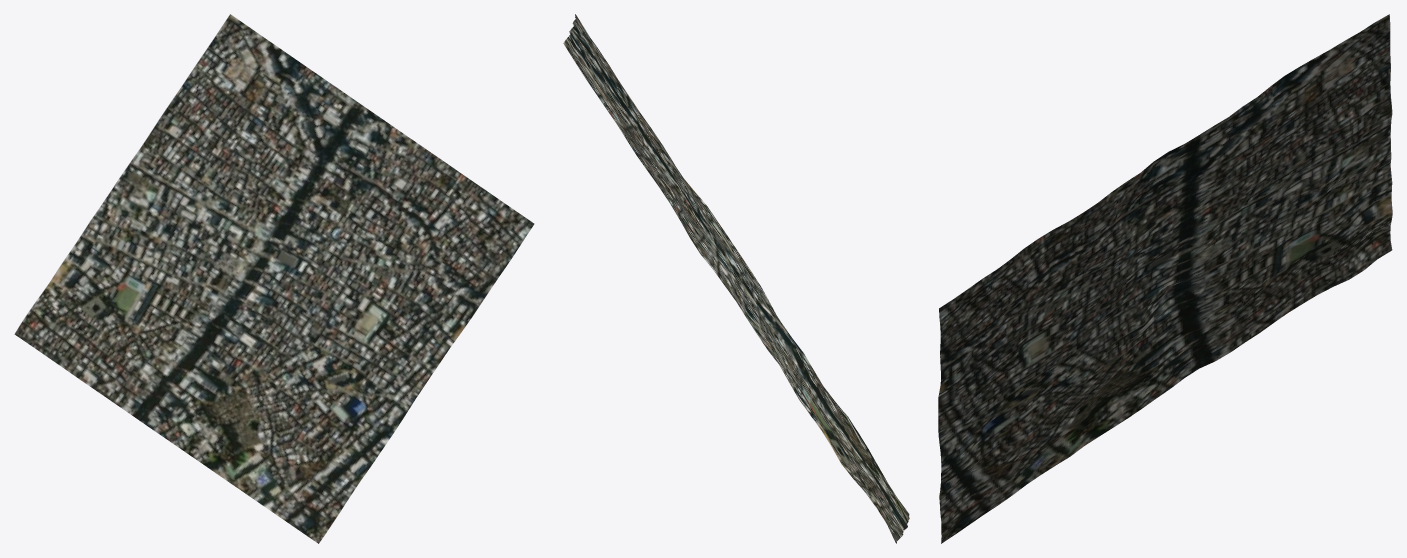
The picture shows the model from 3 angles, left to right: view 1: azimuth 30°, elevation 25°; view 2: azimuth 150°, elevation 25°; view 3: azimuth 270°, elevation 25°; orthographic projection. The views are drawn at different scales.
Size of the model in its own units: 1079 by 1136 by 811.
Materials: 1 (1 with a texture image).
